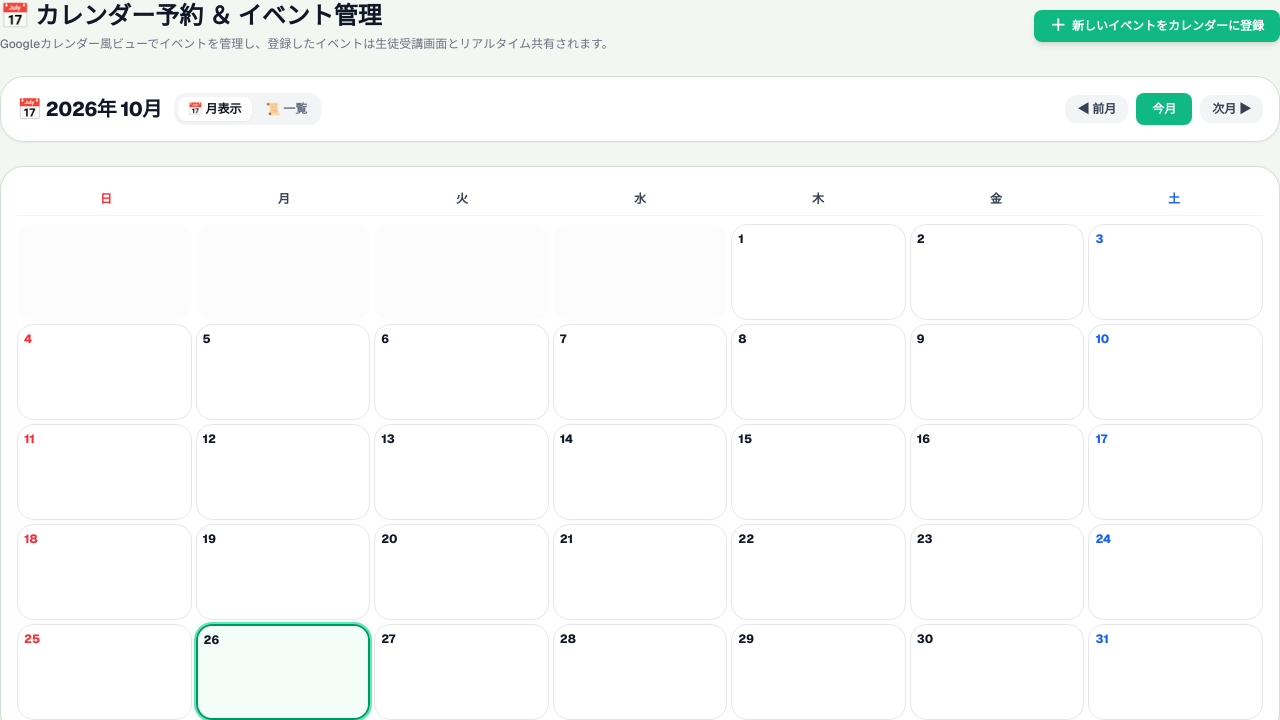
Scenario: R-2: 書き込みエラーのトースト通知（正常系・異常系） › 1. イベント新規登録 (TeacherEventsView / useEvents.addEvent) › DB 書き込み失敗時にエラートーストが表示され、成功トーストは出ない
The width and height of the screenshot is (1280, 720).
Click the text "新しいイベントをカレンダーに登録" at (1168,26), box [1072,18,1264,34]
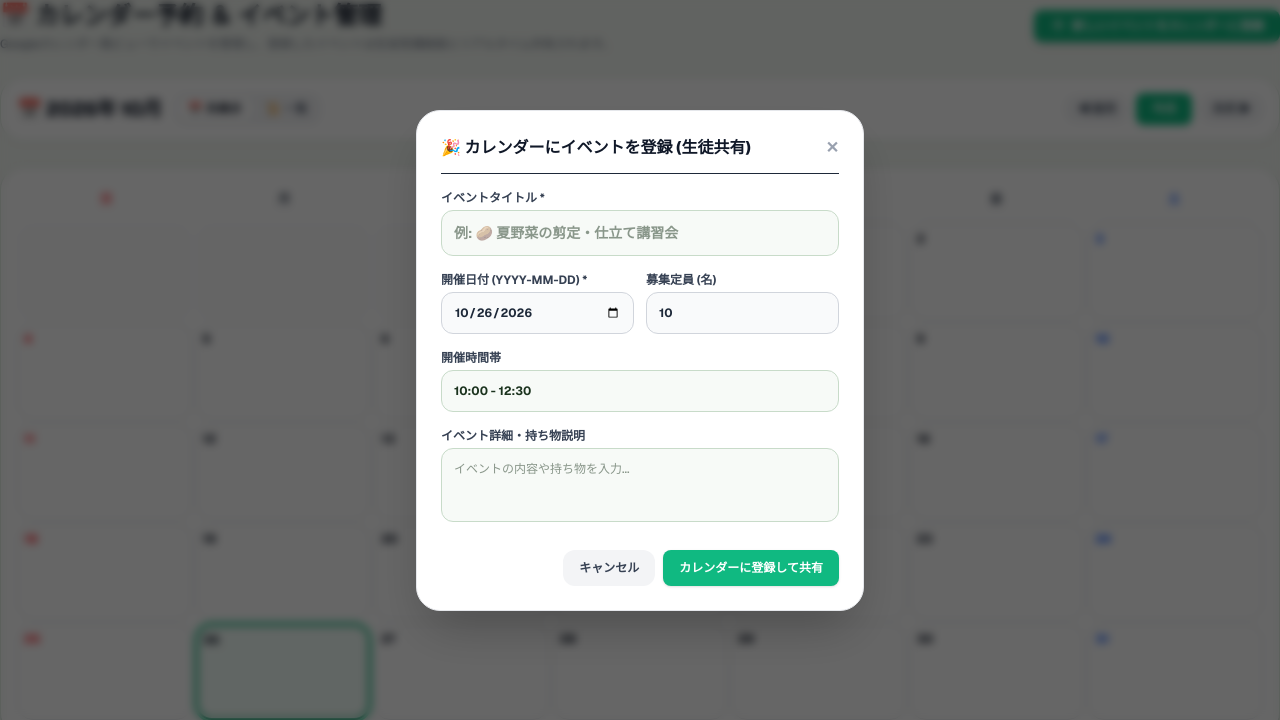
Type "秋の収穫祭" into the field with placeholder "例: 🥔 夏野菜の剪定・仕立て講習会" at (640,232), box [441,210,839,256]
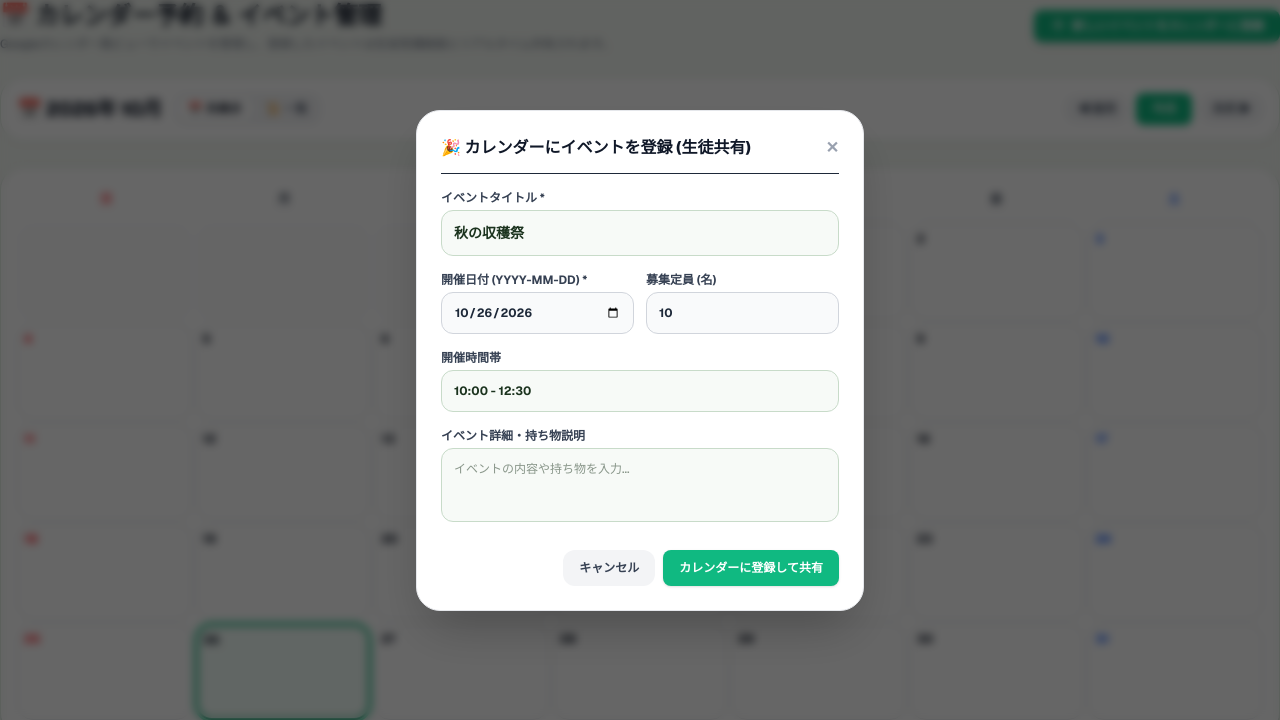
Click the button "カレンダーに登録して共有" at (751,568), box [663,550,839,586]
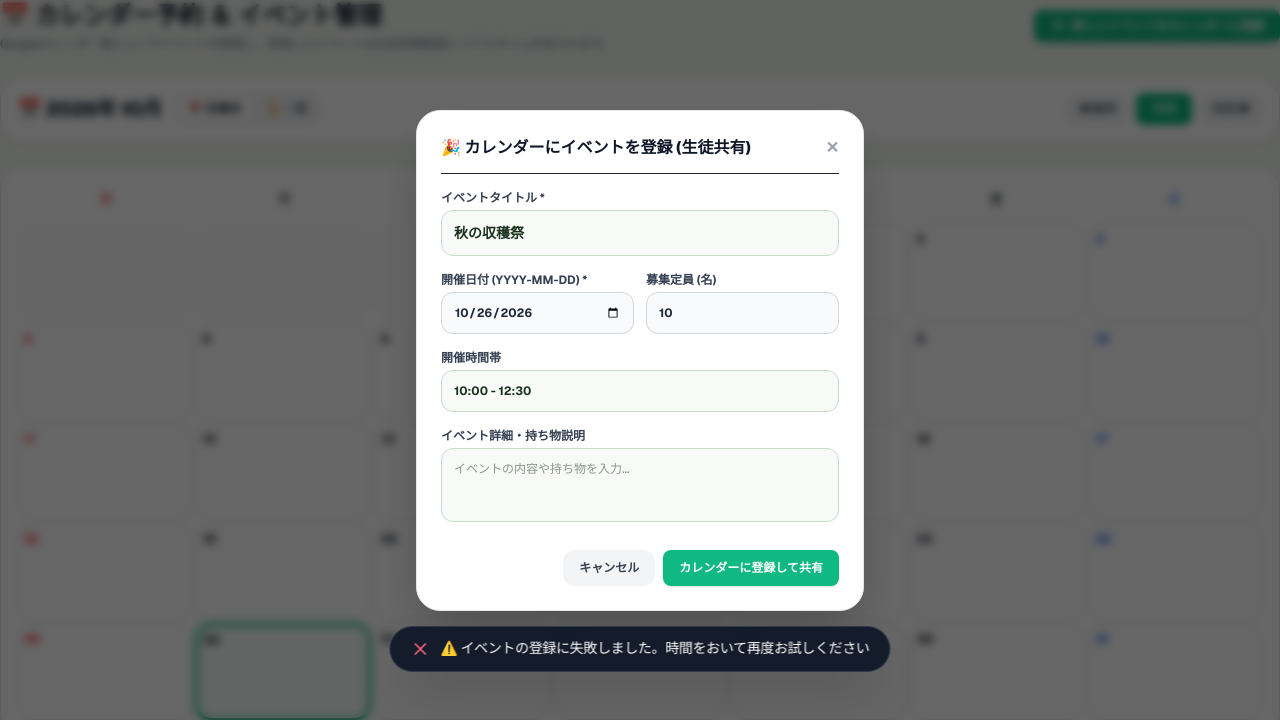
Check: the text "⚠️ イベントの登録に失敗しました。時間をおいて再度お試しください" is shown, box [440,639,870,659]
